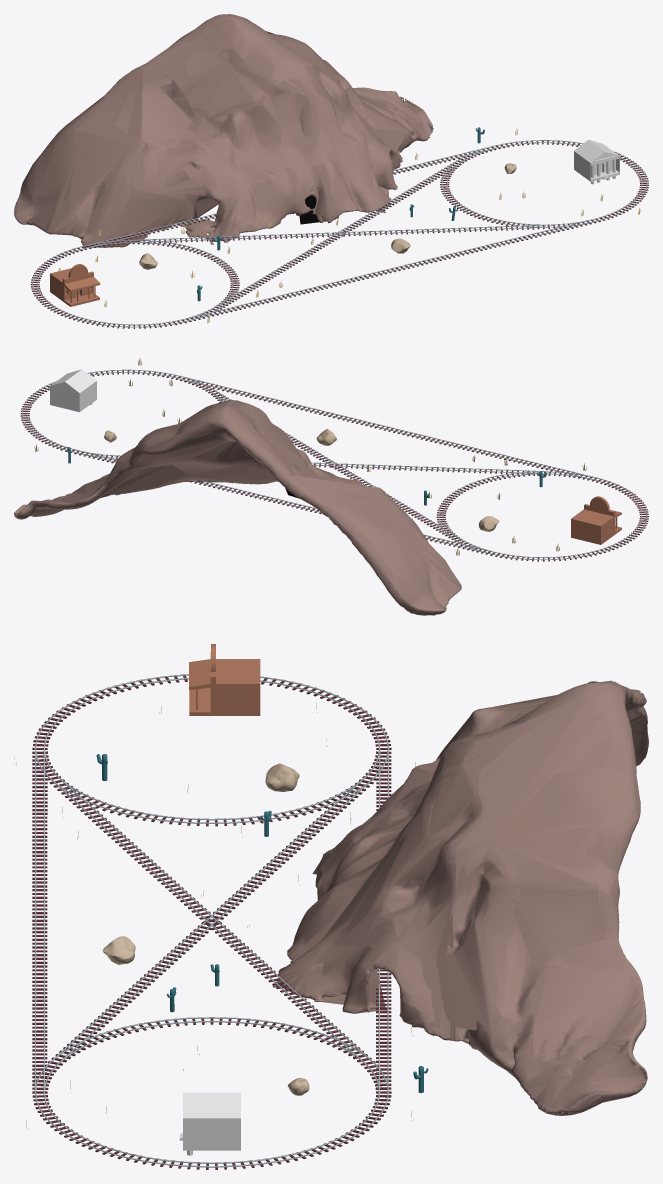
Rendered from map.fbx.
The picture shows the model from 3 angles, top to bottom: view 1: azimuth 30°, elevation 25°; view 2: azimuth 150°, elevation 25°; view 3: azimuth 270°, elevation 25°; orthographic projection. The views are drawn at different scales.
Parts seen in each view (by area): view 1: Mountain, CircleTrackLeft, CircleTrackRight, StraightTrackBottom, CrossTrack2, Saloon, CrossTrack1, Bank, StraightTrackTop; view 2: Mountain, CircleTrackLeft, StraightTrackBottom, Saloon, Bank, CircleTrackRight, StraightTrackTop, CrossTrack2, CrossTrack1; view 3: Mountain, CircleTrackRight, CircleTrackLeft, StraightTrackBottom, Saloon, CrossTrack2, CrossTrack1, Bank, StraightTrackTop, Rock.001.
Boxes of the visible parts, x1=… form: Mountain: x1=14, y1=14, x2=433, y2=247; CircleTrackLeft: x1=30, y1=240, x2=239, y2=328; CircleTrackRight: x1=440, y1=140, x2=648, y2=228; StraightTrackBottom: x1=182, y1=219, x2=596, y2=323; CrossTrack2: x1=122, y1=224, x2=554, y2=244; Saloon: x1=50, y1=264, x2=100, y2=306; CrossTrack1: x1=216, y1=158, x2=467, y2=309; Bank: x1=574, y1=139, x2=619, y2=184; StraightTrackTop: x1=82, y1=145, x2=500, y2=249; Mountain: x1=14, y1=400, x2=461, y2=615; CircleTrackLeft: x1=436, y1=471, x2=648, y2=561; StraightTrackBottom: x1=176, y1=375, x2=595, y2=481; Saloon: x1=571, y1=496, x2=621, y2=544; Bank: x1=50, y1=369, x2=96, y2=412; CircleTrackRight: x1=20, y1=369, x2=226, y2=459; StraightTrackTop: x1=71, y1=449, x2=494, y2=555; CrossTrack2: x1=206, y1=388, x2=464, y2=542; CrossTrack1: x1=116, y1=455, x2=550, y2=475; Mountain: x1=272, y1=680, x2=648, y2=1115; CircleTrackRight: x1=32, y1=1017, x2=391, y2=1169; CircleTrackLeft: x1=32, y1=674, x2=391, y2=826; StraightTrackBottom: x1=32, y1=747, x2=47, y2=1093; Saloon: x1=189, y1=644, x2=260, y2=715; CrossTrack2: x1=48, y1=776, x2=376, y2=1065; CrossTrack1: x1=49, y1=779, x2=375, y2=1065; Bank: x1=179, y1=1092, x2=240, y2=1155; StraightTrackTop: x1=376, y1=747, x2=391, y2=1097; Rock.001: x1=265, y1=763, x2=299, y2=791.
Size of what is drawn, in the model's own units: 4614 by 1188 by 2499.
